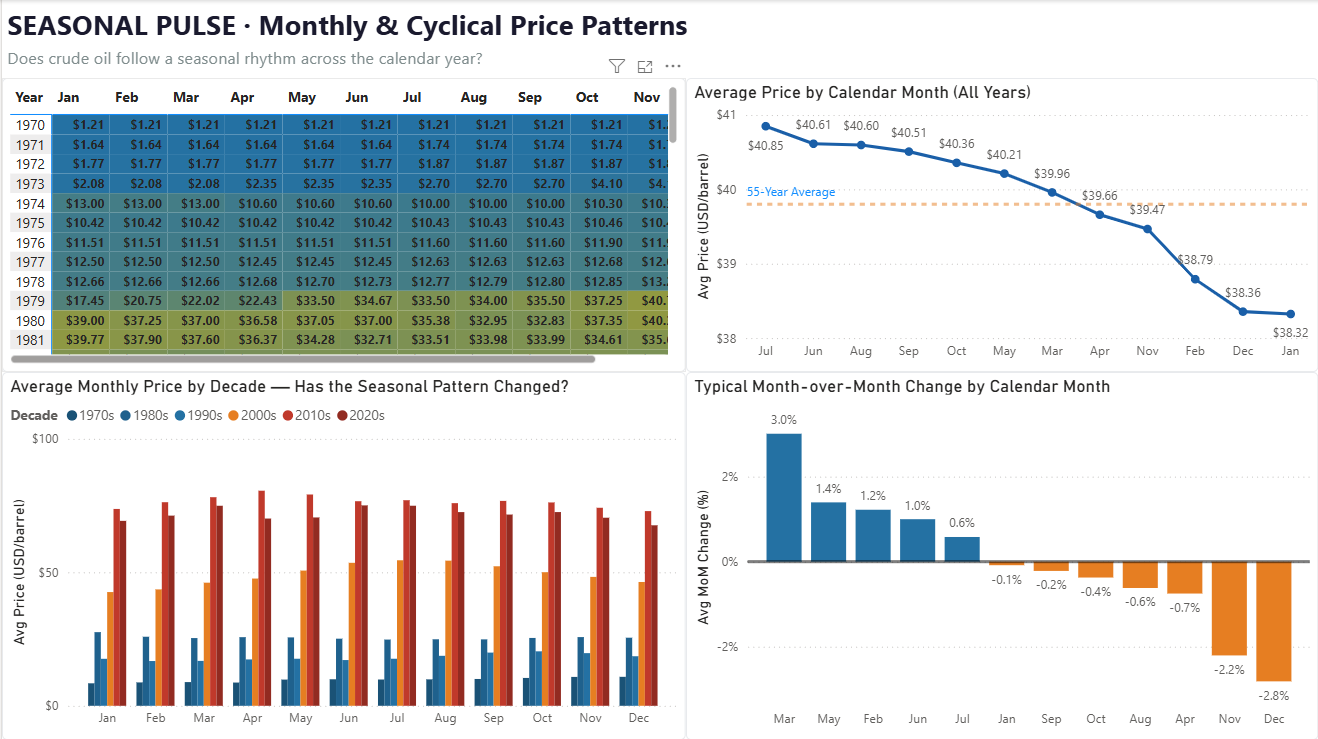

Layout of this report page (visuals, bound fields, positions):
{"tool":"powerbi","page":{"name":"📅 Seasonal Patterns","canvas":[1280,720],"ordinal":3},"visuals":[{"type":"textbox","box":[0,0,681.8,46.7],"z":0},{"type":"textbox","box":[0,39.9,478.5,35],"z":1000},{"type":"pivotTable","fields":{"Rows":["DateTable.Year"],"Values":["FuelPrices.Avg Price"],"Columns":["FuelPrices.Month Name"]},"box":[0,75.9,665.3,286],"z":2000},{"type":"lineChart","title":"Average Price by Calendar Month (All Years)","fields":{"Category":["DateTable.MonthName"],"Y":["FuelPrices.Avg Price"]},"box":[665.3,75.9,614.7,286],"z":3000},{"type":"clusteredColumnChart","title":"Typical Month-over-Month Change by Calendar Month","fields":{"Category":["DateTable.MonthName"],"Y":["FuelPrices.MoM Price Change %"]},"box":[665.3,361.8,614.7,357.9],"z":4000},{"type":"clusteredColumnChart","title":"Average Monthly Price by Decade — Has the Seasonal Pattern Changed?","fields":{"Category":["FuelPrices.Month Name"],"Y":["FuelPrices.Avg Price"],"Series":["FuelPrices.Decade"]},"box":[0,362,665,358],"z":5000}]}

Visuals, with their boxes in screenshot pixels (x1, y1, x2, y2), scaled from the page's 1280x720 canvas onto the 1318x739 screenshot:
textbox: [0,0,702,48]
textbox: [0,41,493,77]
pivotTable - DateTable.Year x FuelPrices.Avg Price: [0,78,685,371]
"Average Price by Calendar Month (All Years)" lineChart: [685,78,1317,371]
"Typical Month-over-Month Change by Calendar Month" clusteredColumnChart: [685,371,1317,738]
"Average Monthly Price by Decade — Has the Seasonal Pattern Changed?" clusteredColumnChart: [0,372,685,738]
